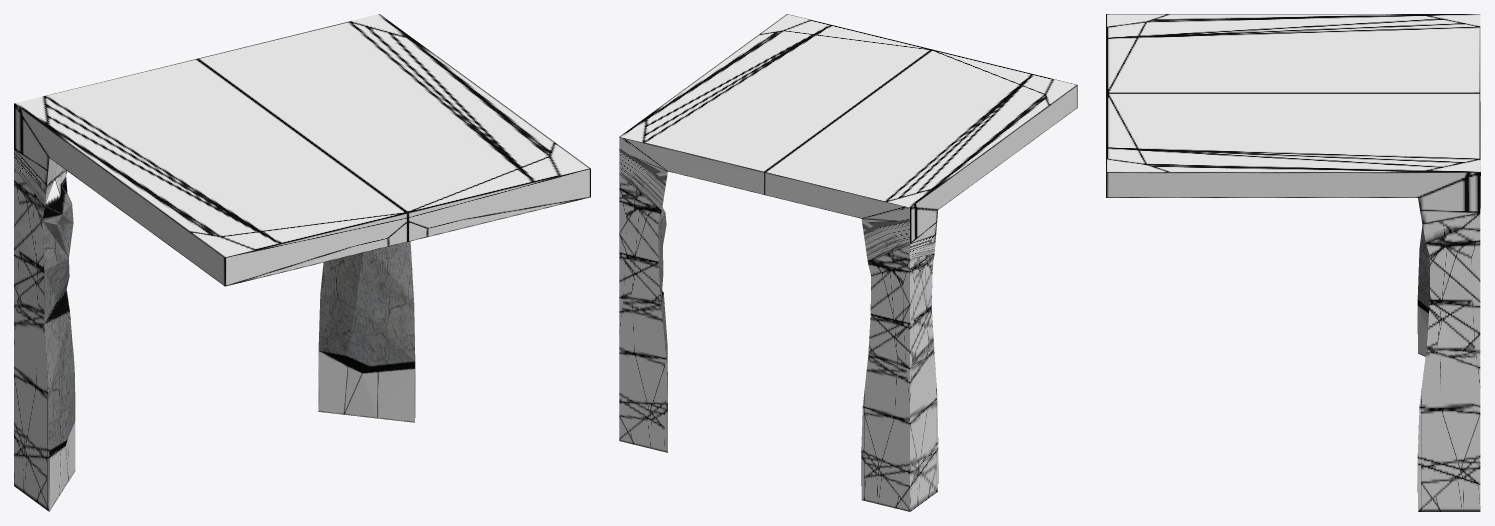
Rendered from EspacioPirateriaScrollIngresoBajoNI.gltf.
The picture shows the model from 3 angles, left to right: view 1: azimuth 30°, elevation 25°; view 2: azimuth 150°, elevation 25°; view 3: azimuth 270°, elevation 25°; orthographic projection. The views are drawn at different scales.
Visible parts, largest first — view 1: Cubo.6; view 2: Cubo.6; view 3: Cubo.6.
Part boxes in pixels (x1=…): Cubo.6: x1=14, y1=14, x2=590, y2=511; Cubo.6: x1=619, y1=14, x2=1077, y2=511; Cubo.6: x1=1106, y1=14, x2=1480, y2=511.
Bounding box in the file's own units: 2 × 2 × 2.
1 material, 1 textured.
